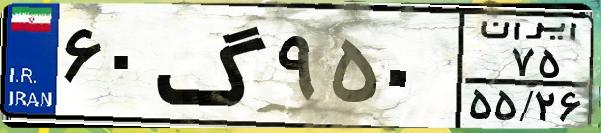0: (385, 28, 445, 110), (110, 28, 156, 98)
2: (535, 70, 560, 125)
5: (330, 28, 385, 110), (537, 27, 568, 80), (470, 70, 495, 125), (495, 70, 520, 125)
6: (57, 26, 110, 100), (560, 70, 590, 125)
7: (508, 27, 537, 80)
9: (270, 28, 330, 110)
گ: (156, 12, 270, 120)
